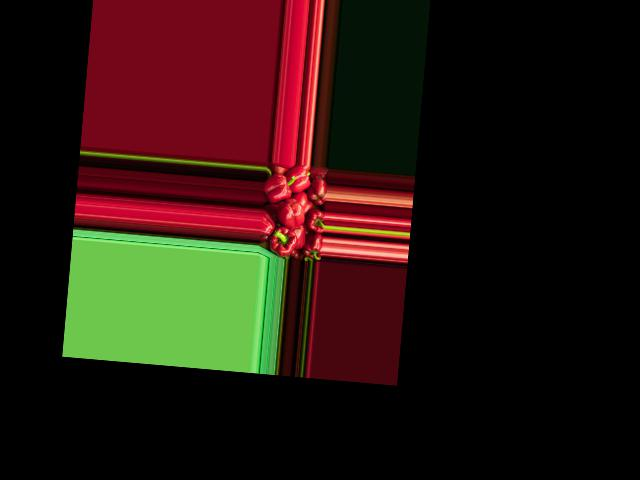bell_pepper: (302, 233, 323, 260)
